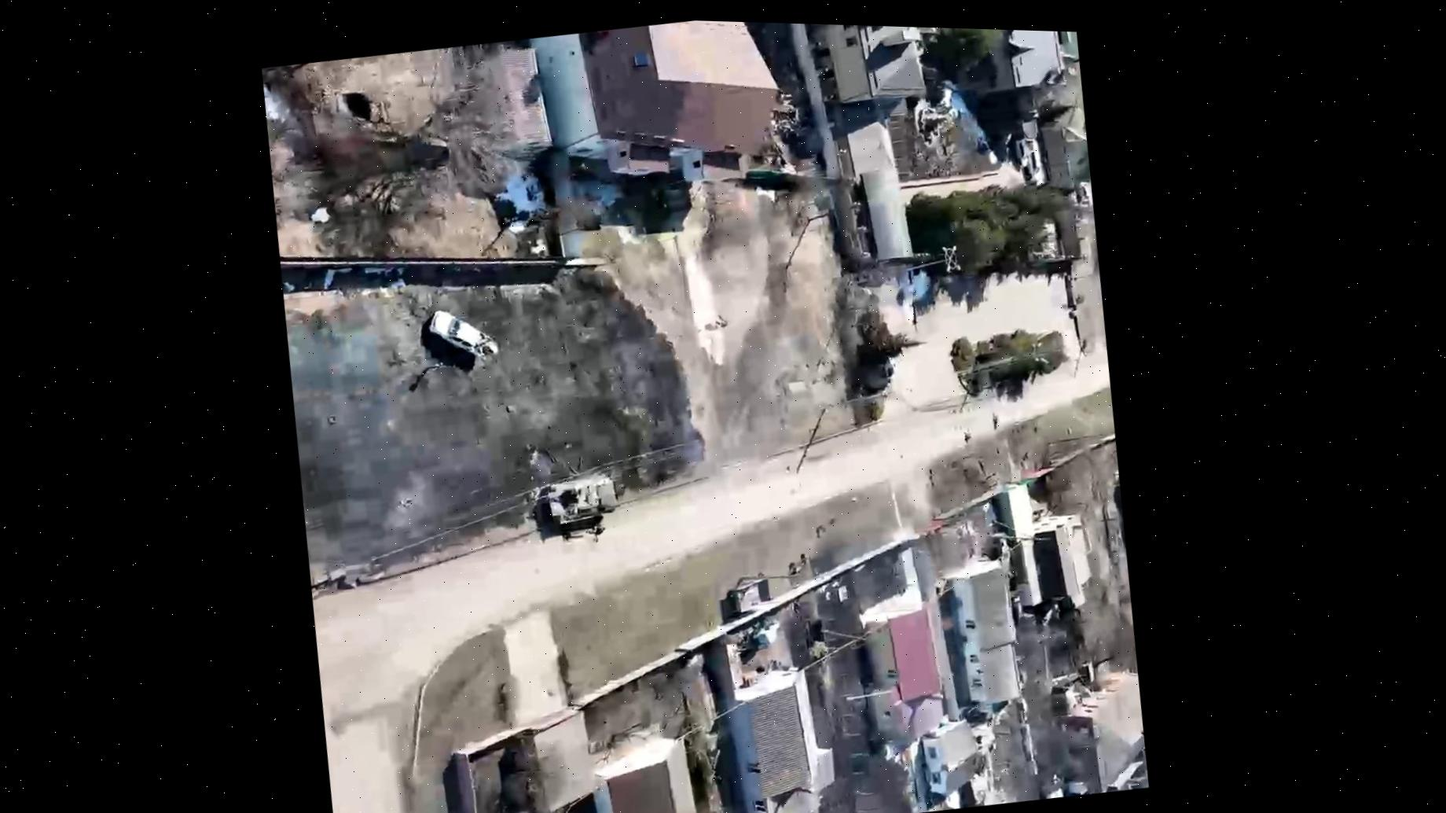car: (422, 299, 499, 371)
tank: (535, 463, 627, 538)
